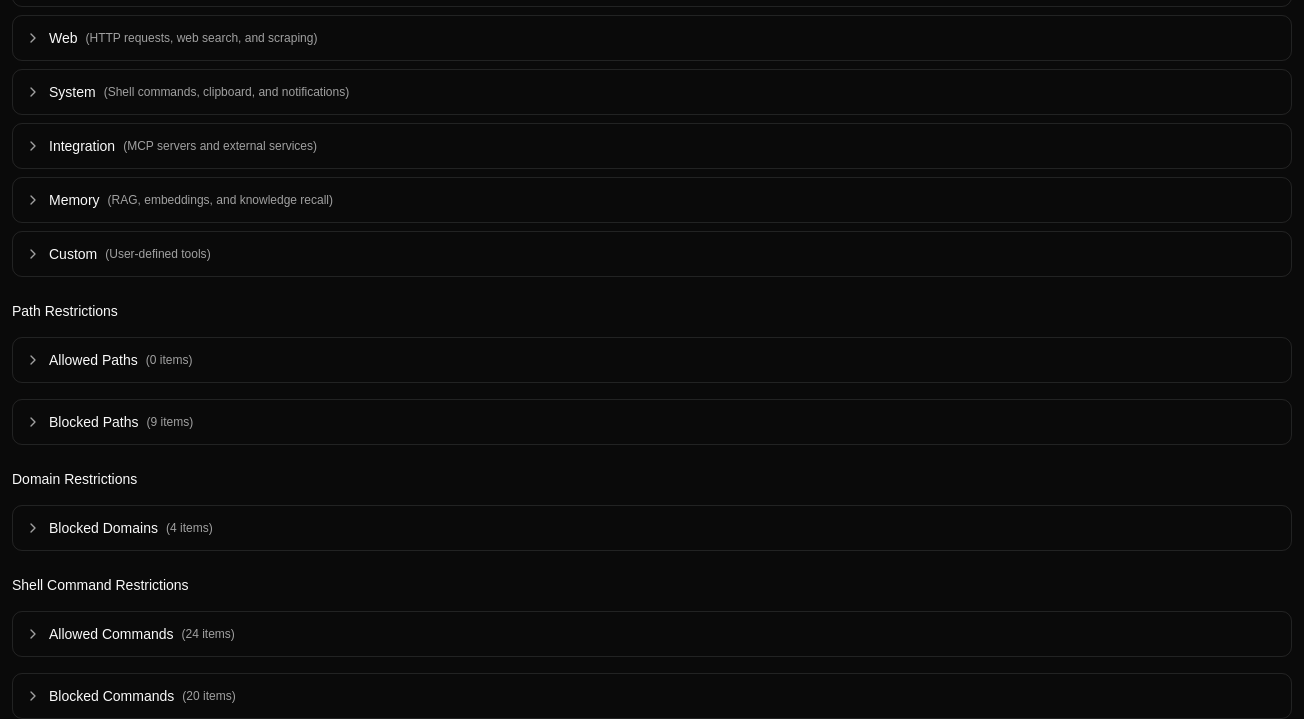
Test: GuardrailsSection › restrictions lists › expands Allowed Paths section and shows input
The width and height of the screenshot is (1304, 719).
(page scrolled)
Click the button "Allowed Paths (0 items)" at (93, 360), box [13, 338, 1291, 382]
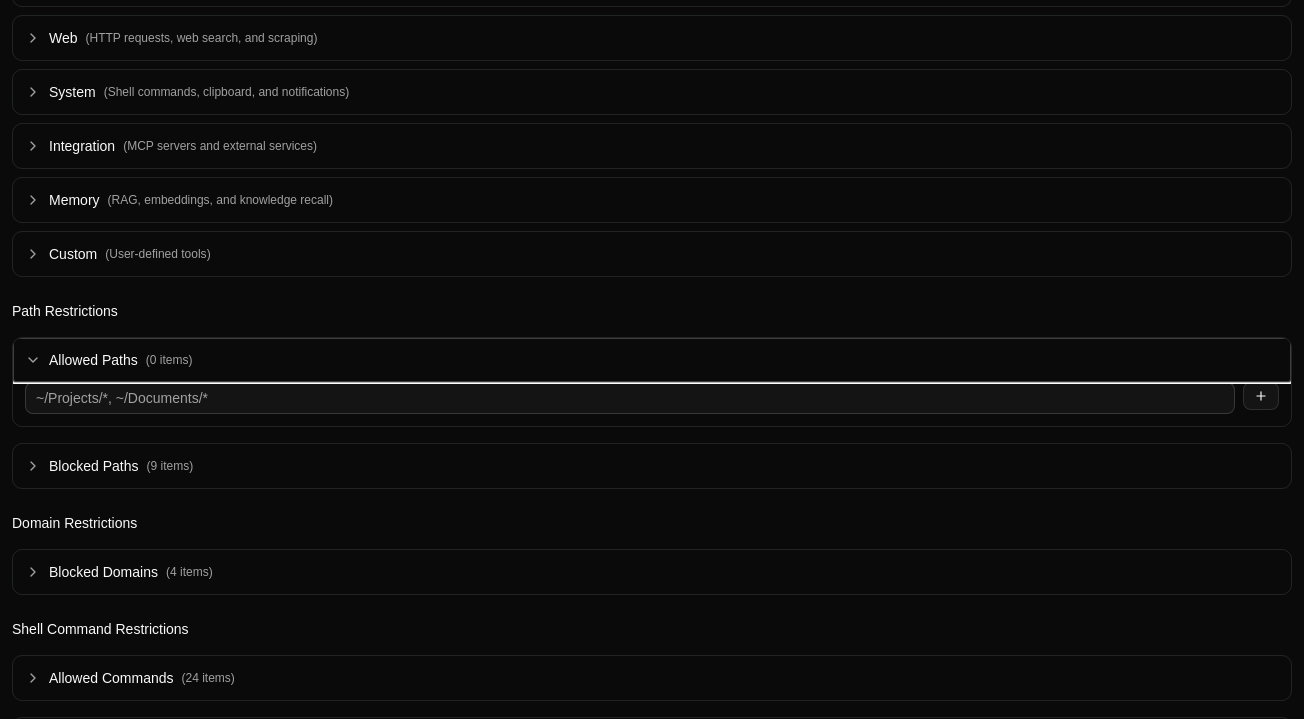
Expected: the field with placeholder "~/Projects/*, ~/Documents/*" is shown, [25, 382, 1235, 414]
